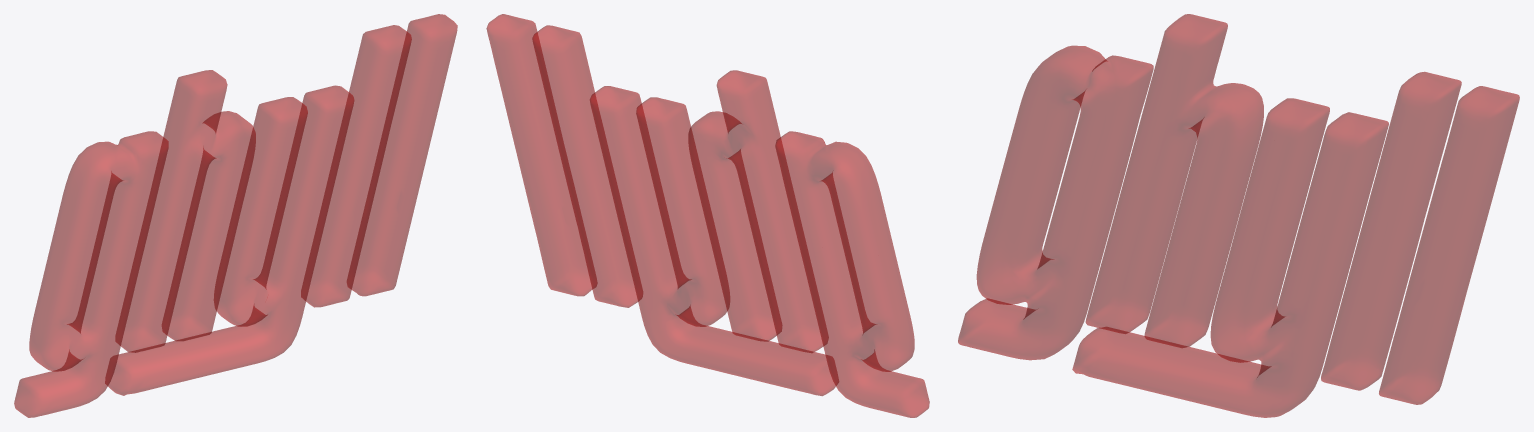
Rendered from ghyll-3d-model-web.glb.
The picture shows the model from 3 angles, left to right: view 1: azimuth 30°, elevation 25°; view 2: azimuth 150°, elevation 25°; view 3: azimuth 330°, elevation 25°; orthographic projection. The views are drawn at different scales.
Visible parts, largest first — view 1: mesh_0; view 2: mesh_0; view 3: mesh_0.
Part boxes in pixels (bbox=[...]): mesh_0: bbox=[14, 14, 457, 417]; mesh_0: bbox=[486, 14, 929, 417]; mesh_0: bbox=[958, 14, 1519, 417].
Bounding box in the file's own units: 0.9965 × 0.6443 × 0.094.
